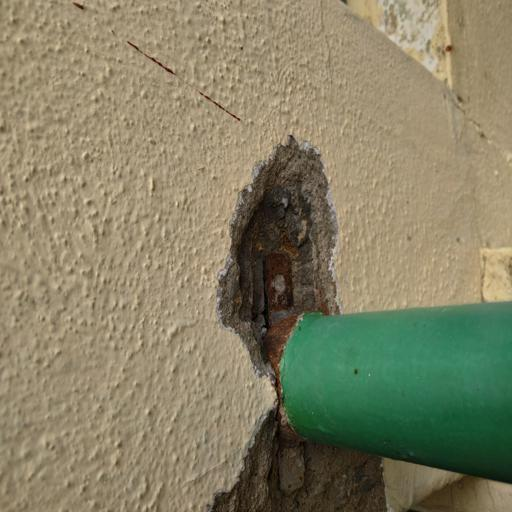spalling: (183, 77, 379, 336), (194, 385, 391, 512)
